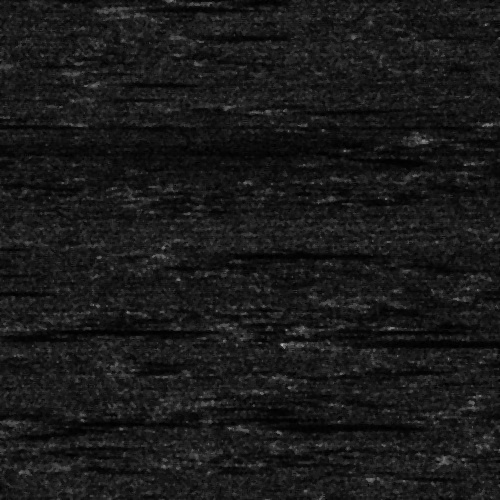object: (0, 409, 104, 430), (376, 132, 459, 143), (262, 336, 345, 345), (174, 30, 227, 43), (246, 105, 329, 112), (278, 326, 341, 335), (137, 248, 210, 255), (218, 419, 271, 428), (93, 2, 156, 9), (82, 80, 135, 85), (0, 325, 26, 334)
shadow: (6, 409, 157, 430), (0, 325, 216, 334), (304, 336, 500, 345), (245, 419, 420, 428), (174, 248, 341, 255), (201, 30, 287, 43), (125, 2, 268, 9), (418, 132, 500, 143), (288, 105, 406, 112), (310, 326, 399, 335), (109, 80, 190, 85), (0, 120, 58, 125), (0, 287, 31, 292)
